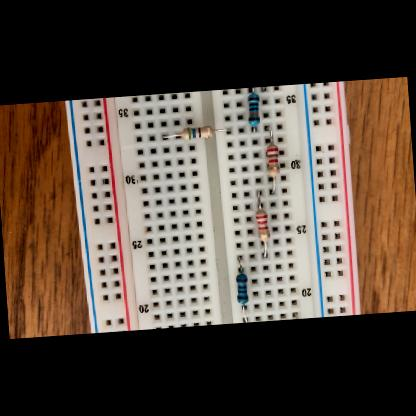breadboard: (65, 81, 361, 334)
resistor: (255, 209, 270, 243), (180, 125, 214, 140), (245, 93, 260, 126), (266, 144, 280, 178), (235, 274, 249, 306)
wire: (265, 126, 273, 143), (260, 242, 268, 258), (235, 256, 242, 274), (161, 134, 181, 140), (268, 178, 275, 194), (254, 192, 260, 210), (214, 128, 230, 134), (241, 306, 246, 322), (260, 87, 266, 91), (250, 88, 254, 93), (250, 127, 254, 132)
